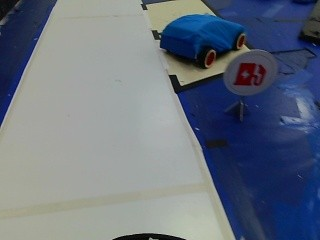battery: (228, 53, 274, 101)
car: (145, 9, 248, 69)
